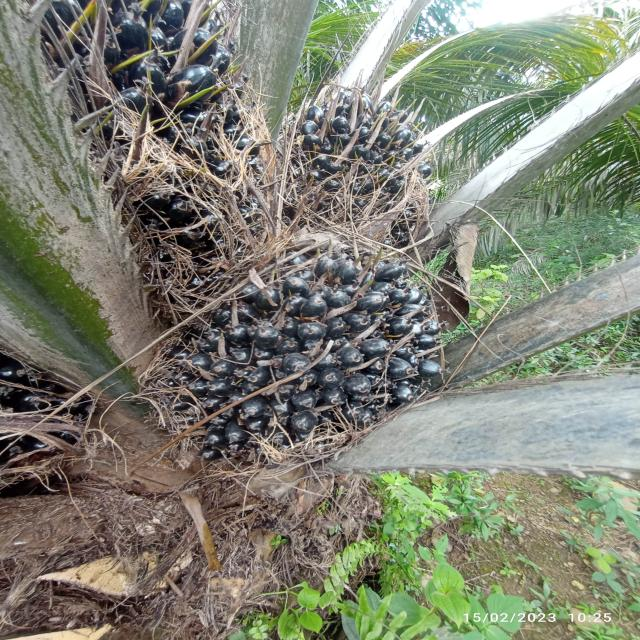fraksi 00: (157, 240, 453, 468), (282, 59, 438, 201)
